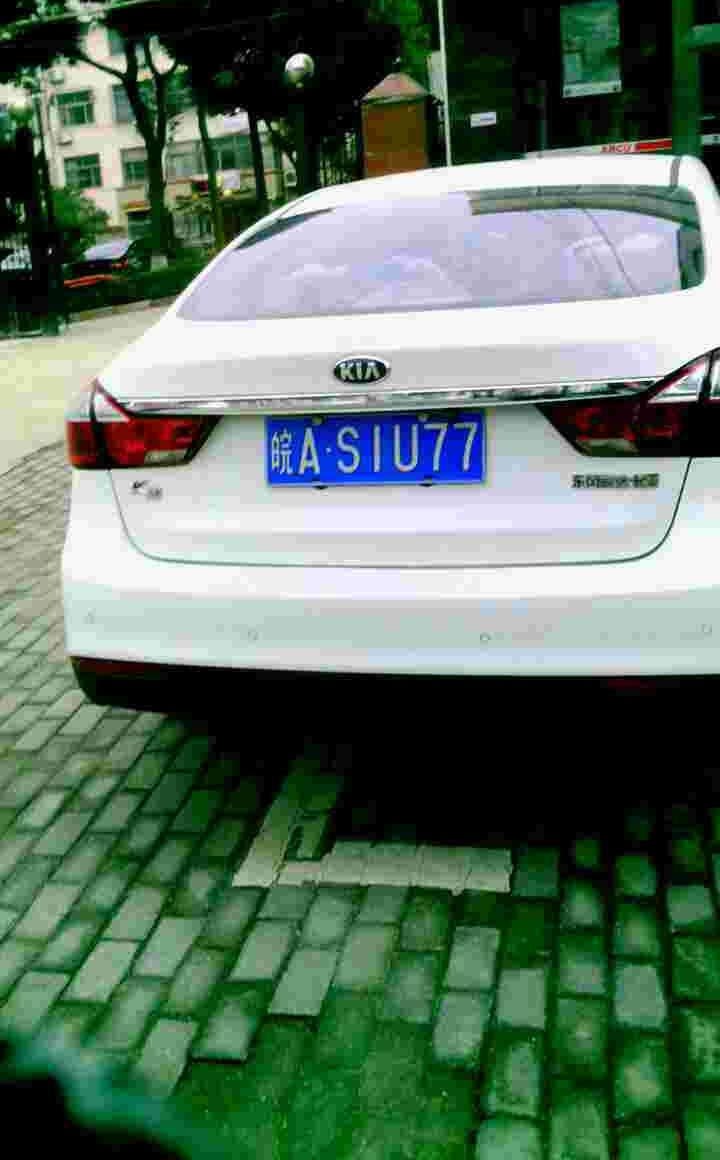plate: (263, 406, 488, 491)
